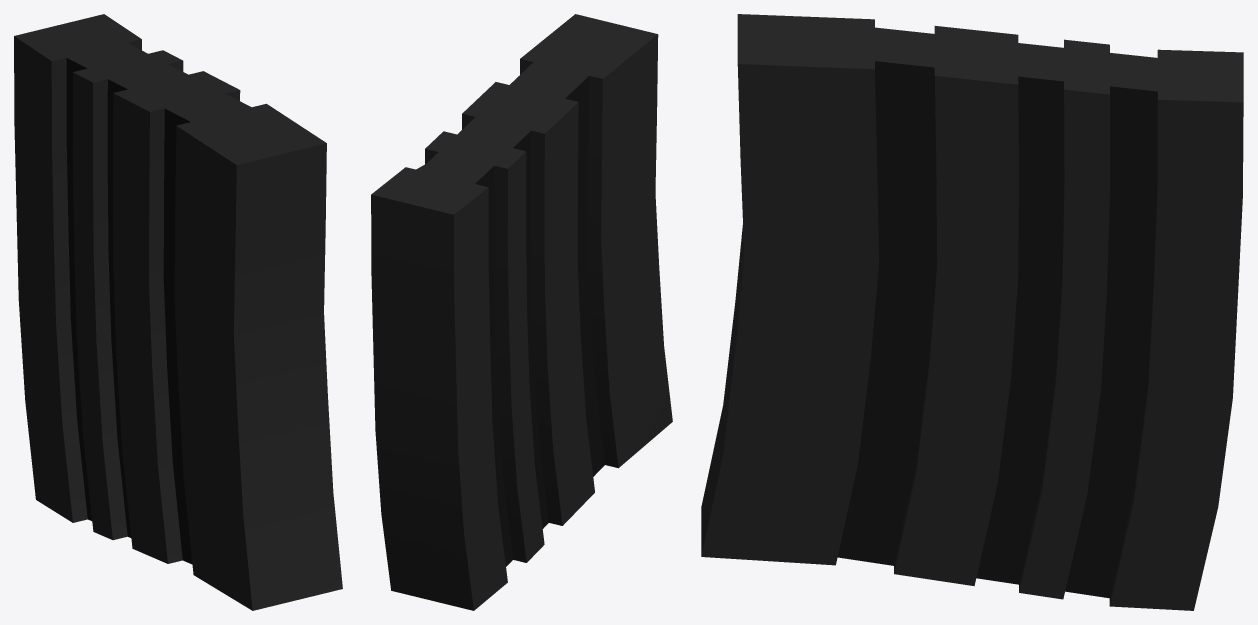
Rendered from mag_0.fbx.
The picture shows the model from 3 angles, left to right: view 1: azimuth 30°, elevation 25°; view 2: azimuth 150°, elevation 25°; view 3: azimuth 270°, elevation 25°; orthographic projection. The views are drawn at different scales.
Parts seen in each view (by area): view 1: mag_0; view 2: mag_0; view 3: mag_0.
Part boxes in pixels (x1,y1,x2,y2): mag_0: (14, 14, 342, 610); mag_0: (371, 14, 672, 610); mag_0: (701, 14, 1243, 610).
Size of the model in its own units: 73.82 by 377 by 338.
